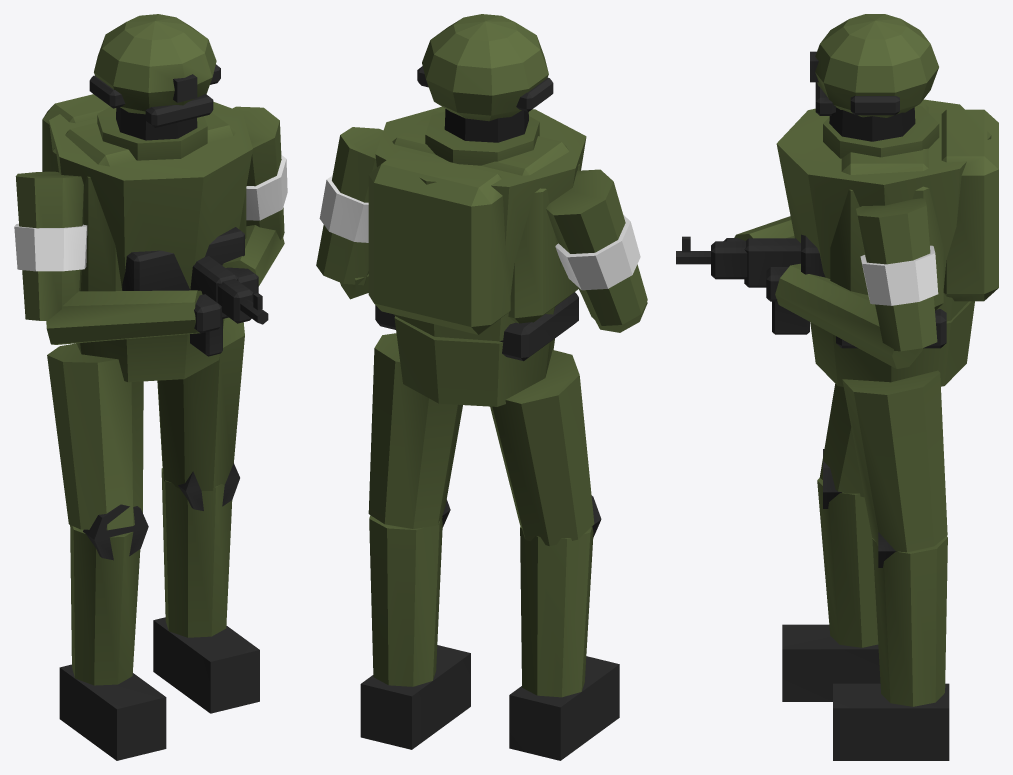
Rendered from ua-rifleman.glb.
3 renders of one model, left to right at view 1: azimuth 30°, elevation 25°; view 2: azimuth 150°, elevation 25°; view 3: azimuth 270°, elevation 25°, orthographic. The views are drawn at different scales.
Parts seen in each view (by area): view 1: ua-rifleman; view 2: ua-rifleman; view 3: ua-rifleman.
Boxes of the visible parts, x1,y1,x2,y2 form: ua-rifleman: (14, 14, 287, 760); ua-rifleman: (316, 14, 647, 760); ua-rifleman: (676, 14, 998, 760).
Size of the model in its own units: 0.2282 by 0.5302 by 0.222.
